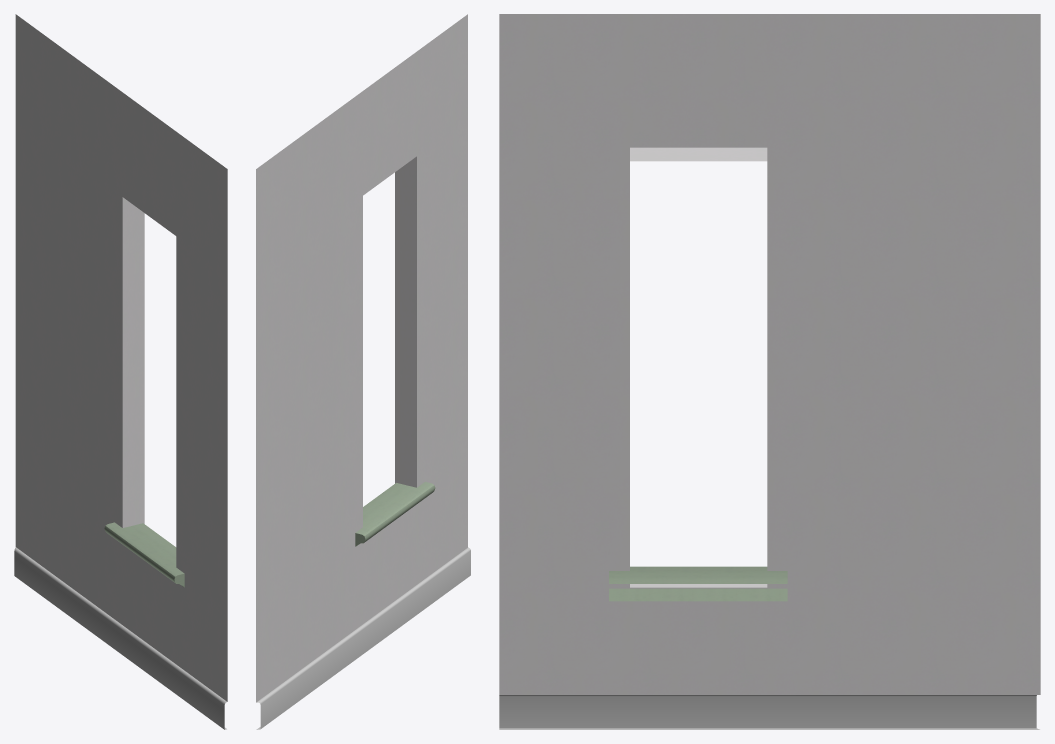
File: SM_Wall_Window_2.fbx
3 renders of one model, left to right at view 1: azimuth 30°, elevation 25°; view 2: azimuth 150°, elevation 25°; view 3: azimuth 270°, elevation 25°, orthographic. The views are drawn at different scales.
Visible parts, largest first — view 1: SM_Wall_Window_2; view 2: SM_Wall_Window_2; view 3: SM_Wall_Window_2.
Part boxes in pixels (box(x1,y1,x2,y2)): SM_Wall_Window_2: box(14, 14, 227, 729); SM_Wall_Window_2: box(256, 14, 470, 729); SM_Wall_Window_2: box(499, 14, 1040, 729).
Bounding box in the file's own units: 28.5 × 325 × 474.
